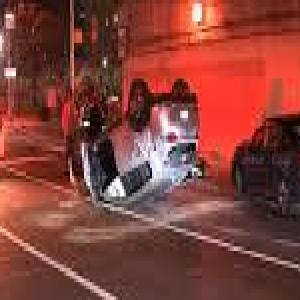fatal: (65, 68, 199, 218)
